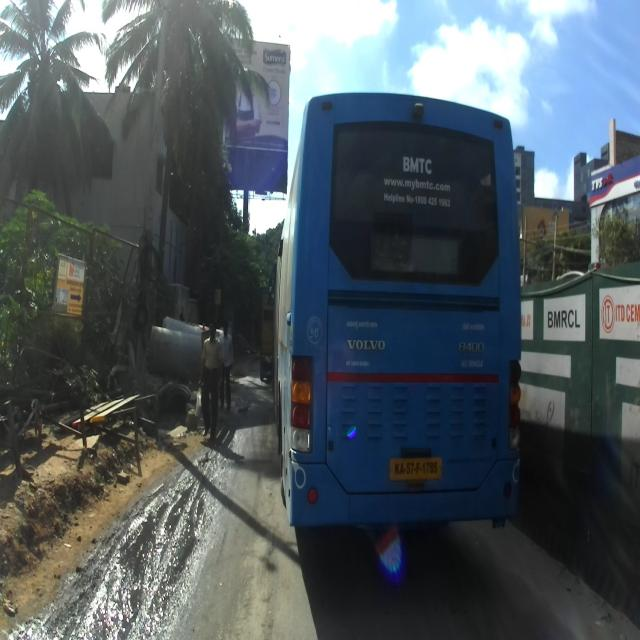bus: (270, 91, 520, 542)
